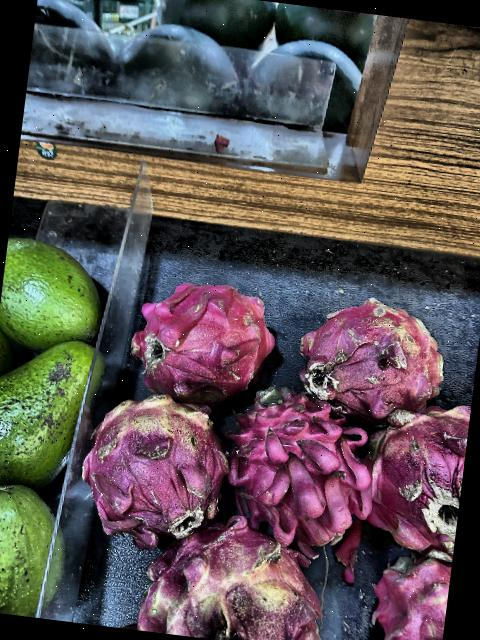buah-naga-belum-matang: (132, 504, 340, 640), (76, 383, 238, 543), (355, 397, 471, 560)
buah-naga-matang: (228, 380, 376, 548), (125, 264, 280, 400), (292, 294, 453, 417), (370, 539, 454, 640)
